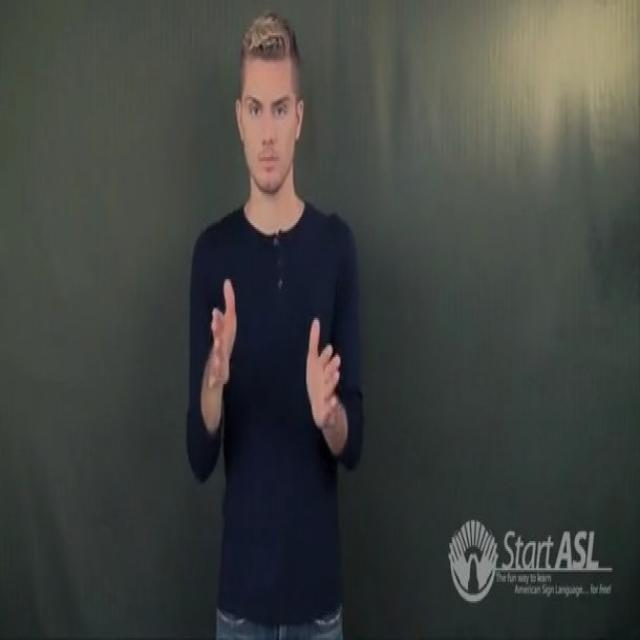manager: (198, 264, 350, 472)
